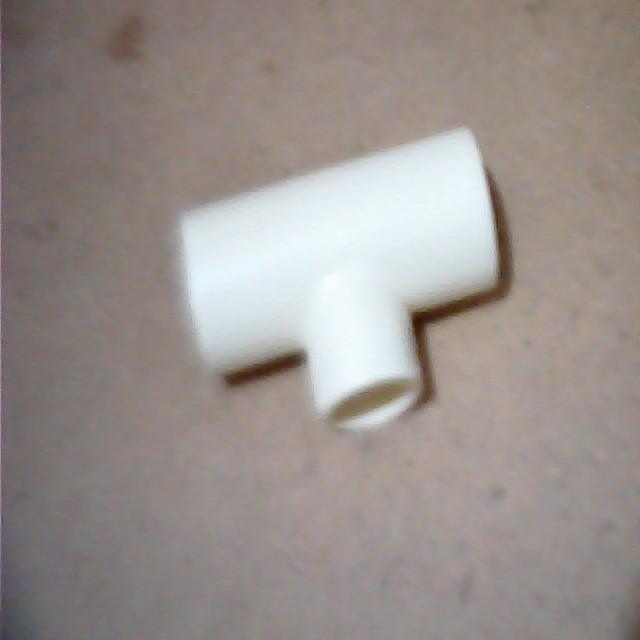T Joint: (177, 126, 512, 432)
